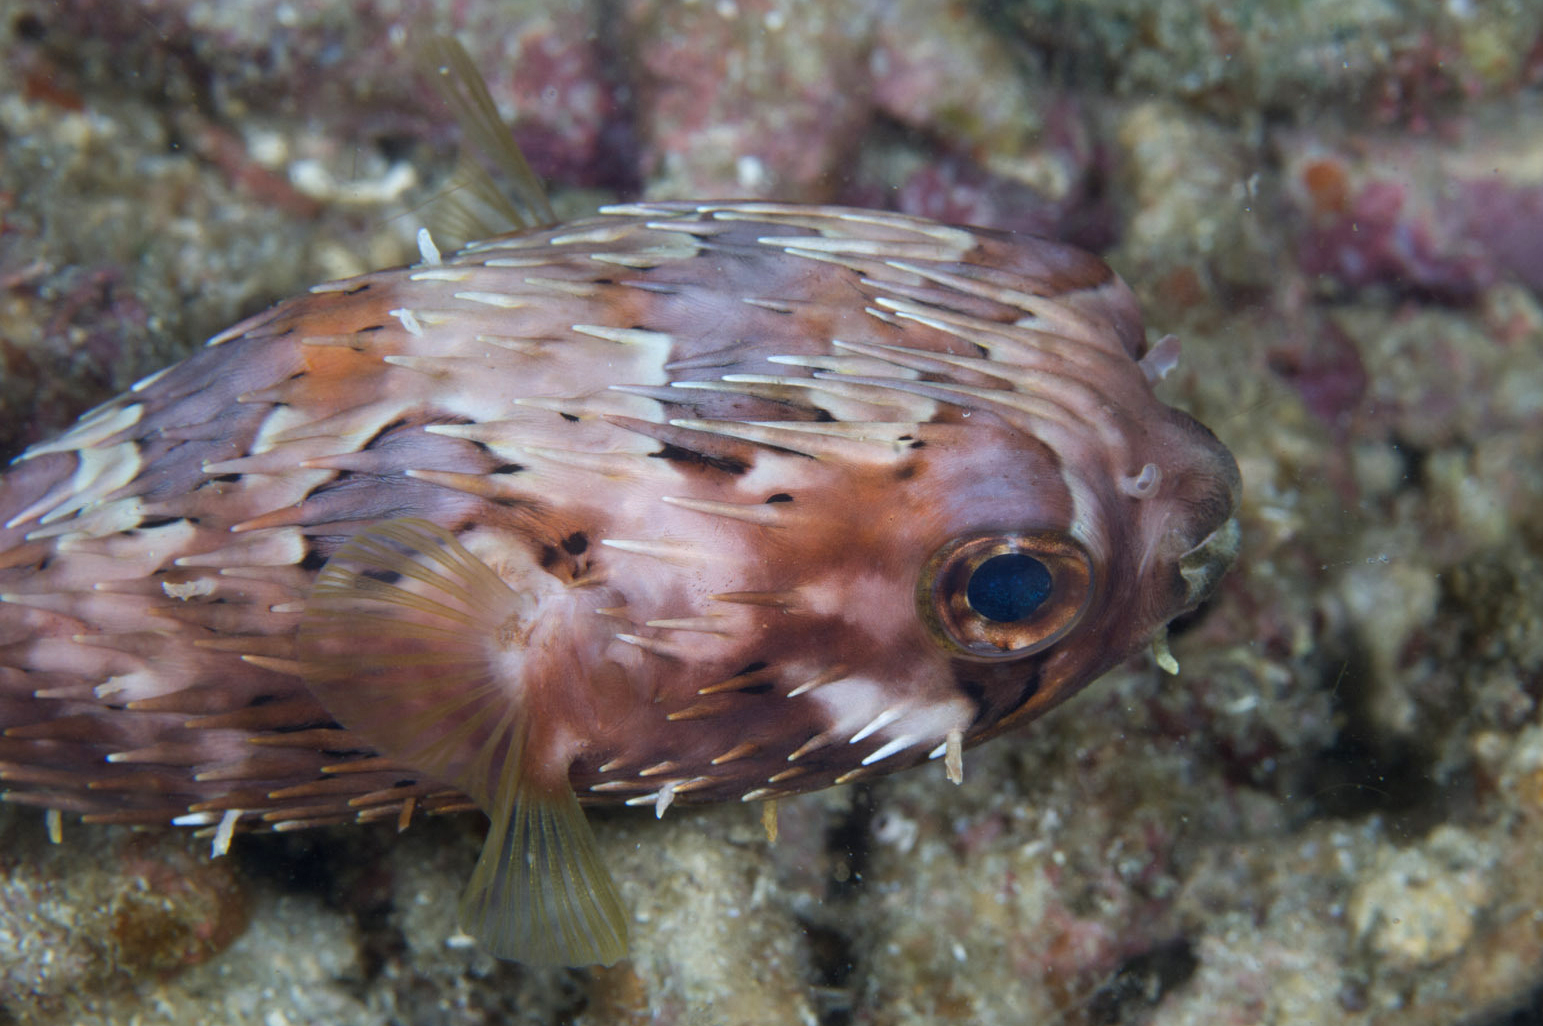Diodon_holocanthus: (1, 98, 1265, 887)
